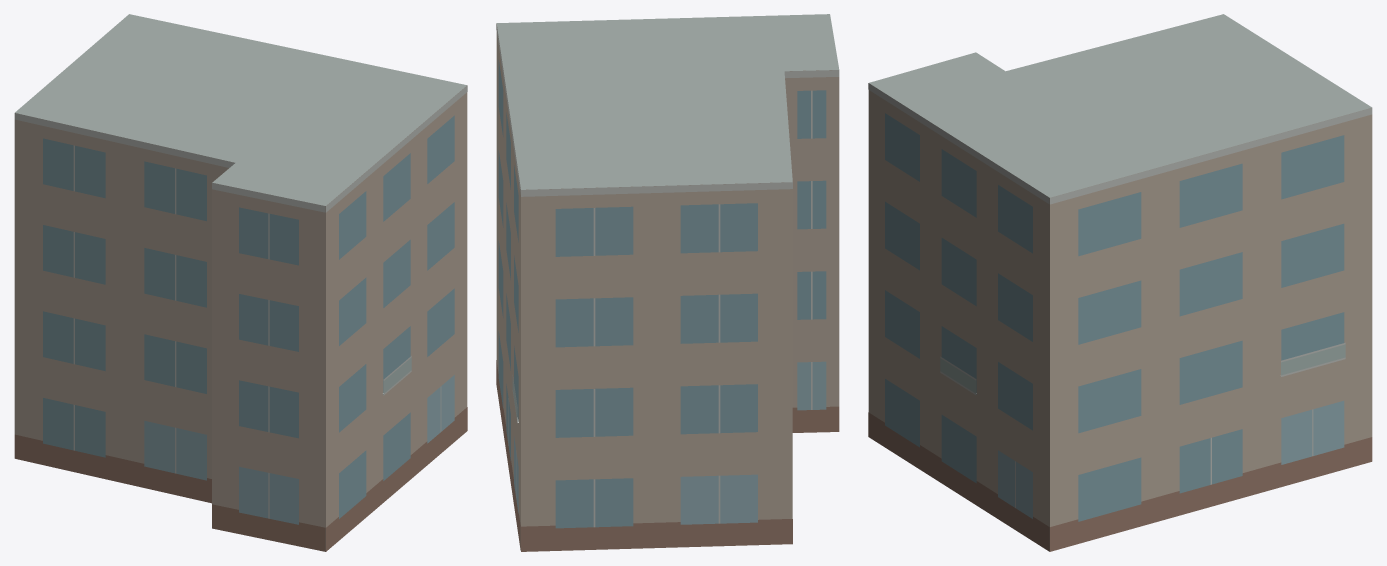
File: survey-upis-32581447.glb
3 renders of one model, left to right at view 1: azimuth 30°, elevation 25°; view 2: azimuth 150°, elevation 25°; view 3: azimuth 270°, elevation 25°, orthographic. The views are drawn at different scales.
Visible parts, largest first — view 1: survey-upis-32581447.tmp; view 2: survey-upis-32581447.tmp; view 3: survey-upis-32581447.tmp.
Part boxes in pixels (x1,y1,x2,y2): survey-upis-32581447.tmp: (14, 14, 467, 551); survey-upis-32581447.tmp: (496, 14, 839, 551); survey-upis-32581447.tmp: (868, 14, 1372, 551).
Bounding box in the file's own units: 14.15 × 12.7 × 16.39.
